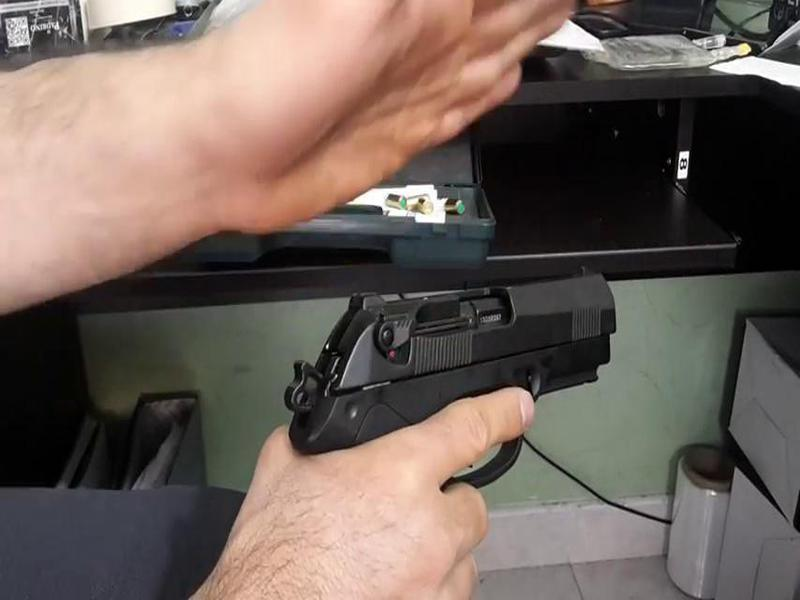Pistola: (255, 264, 630, 481)
